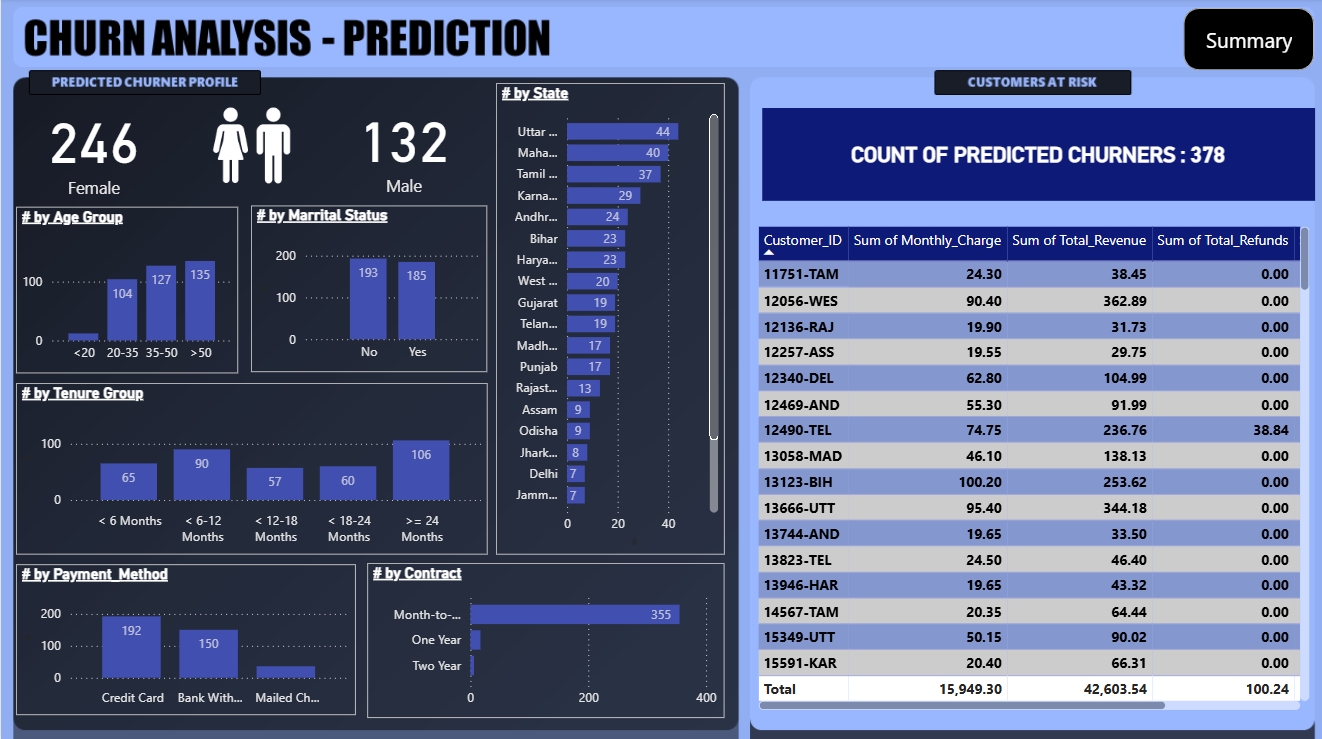

Layout of this report page (visuals, bound fields, positions):
{"tool":"powerbi","page":{"name":"Churn Prediction","canvas":[1280,720],"ordinal":2},"visuals":[{"type":"image","box":[190.6,90.5,102.5,102.5],"z":0},{"type":"tableEx","fields":{"Values":["Predictions.Customer_ID","Sum(Predictions.Monthly_Charge)","Sum(Predictions.Total_Revenue)","Sum(Predictions.Total_Refunds)","Sum(Predictions.Number_of_Referrals)"]},"box":[725.1,216,542.9,476.5],"z":1000},{"type":"card","fields":{"Values":["Tbl_Measure.Title Predicted Churner"]},"box":[734.7,106.2,533.2,89.3],"z":2000},{"type":"card","fields":{"Values":["Tbl_Measure.Count Predicted Churner"]},"box":[14.5,91.7,150.8,105],"z":3000},{"type":"card","fields":{"Values":["Tbl_Measure.Count Predicted Churner"]},"box":[308.8,90.5,160.5,105],"z":4000},{"type":"clusteredColumnChart","fields":{"Category":["Mapping_AgeGrp.Age Group"],"Y":["CountNonNull(Predictions.Customer_ID)"]},"box":[14.5,201.5,214.7,160.5],"z":5000},{"type":"clusteredColumnChart","fields":{"Category":["Predictions.Married"],"Y":["CountNonNull(Predictions.Customer_ID)"]},"box":[241.3,200.3,228,160.5],"z":6000},{"type":"clusteredColumnChart","fields":{"Category":["Mapping_TenureGrp.Tenure Group"],"Y":["CountNonNull(Predictions.Customer_ID)"]},"box":[14.5,371.6,454.8,165.3],"z":7000},{"type":"clusteredColumnChart","fields":{"Category":["Predictions.Payment_Method"],"Y":["CountNonNull(Predictions.Customer_ID)"]},"box":[14.5,546.5,328.2,146],"z":8000},{"type":"clusteredBarChart","fields":{"Category":["Predictions.Contract"],"Y":["CountNonNull(Predictions.Customer_ID)"]},"box":[353.5,545.3,345,149.6],"z":9000},{"type":"clusteredBarChart","fields":{"Category":["Predictions.State"],"Y":["CountNonNull(Predictions.Customer_ID)"]},"box":[477.8,82,220.8,454.8],"z":10000},{"type":"shape","box":[1141.3,9.7,126.7,60.3],"z":10001}]}

Visuals, with their boxes in screenshot pixels (x1, y1, x2, y2), scaled from the page's 1280x720 canvas onto the 1322x739 screenshot:
image: 197/93/303/198
tableEx - Predictions.Customer_ID x Sum(Predictions.Monthly_Charge): 749/222/1310/711
card - Tbl_Measure.Title Predicted Churner: 759/109/1310/201
card - Tbl_Measure.Count Predicted Churner: 15/94/171/202
card - Tbl_Measure.Count Predicted Churner: 319/93/485/201
clusteredColumnChart - Mapping_AgeGrp.Age Group x CountNonNull(Predictions.Customer_ID): 15/207/237/372
clusteredColumnChart - Predictions.Married x CountNonNull(Predictions.Customer_ID): 249/206/485/370
clusteredColumnChart - Mapping_TenureGrp.Tenure Group x CountNonNull(Predictions.Customer_ID): 15/381/485/551
clusteredColumnChart - Predictions.Payment_Method x CountNonNull(Predictions.Customer_ID): 15/561/354/711
clusteredBarChart - Predictions.Contract x CountNonNull(Predictions.Customer_ID): 365/560/721/713
clusteredBarChart - Predictions.State x CountNonNull(Predictions.Customer_ID): 493/84/722/551
shape: 1179/10/1310/72
